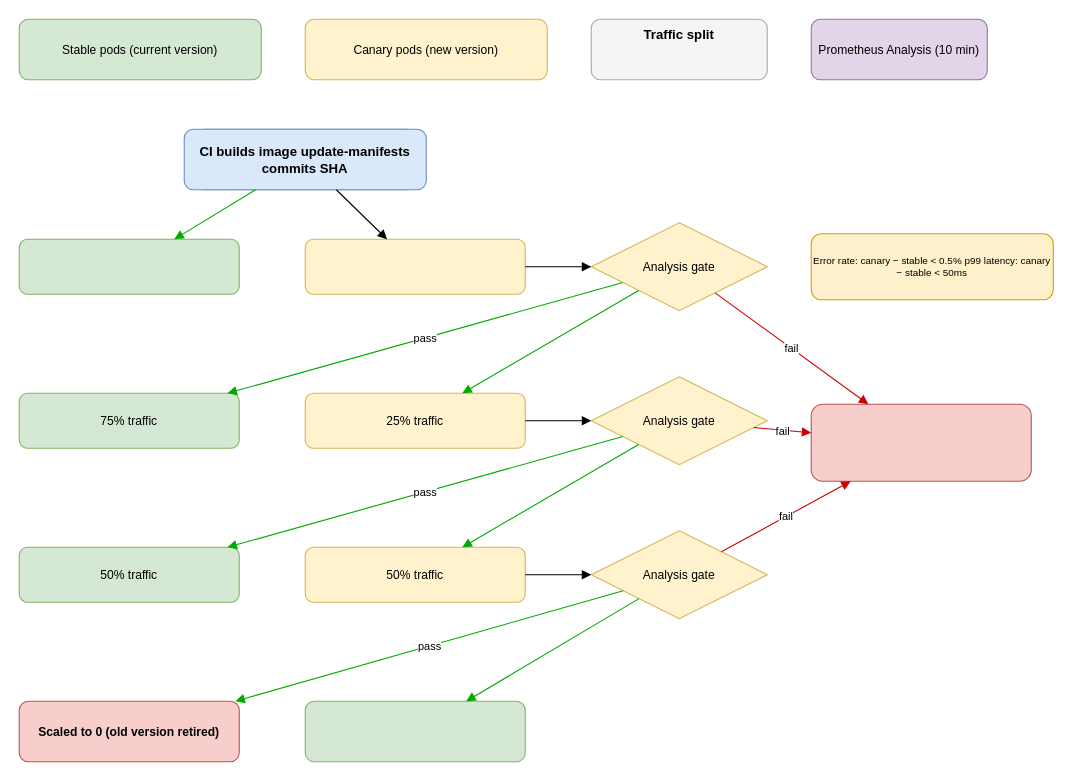
This 1073x781 diagram has some shape labels left out. The centre of each missing label's shape, as x and y in pixels:
"100% traffic (becomes new stable)" belongs at pixel 414 731.
"5% traffic" belongs at pixel 414 266.
"95% traffic" belongs at pixel 128 266.
"AUTO-ABORT All traffic → stable Canary scaled to 0" belongs at pixel 920 442.
